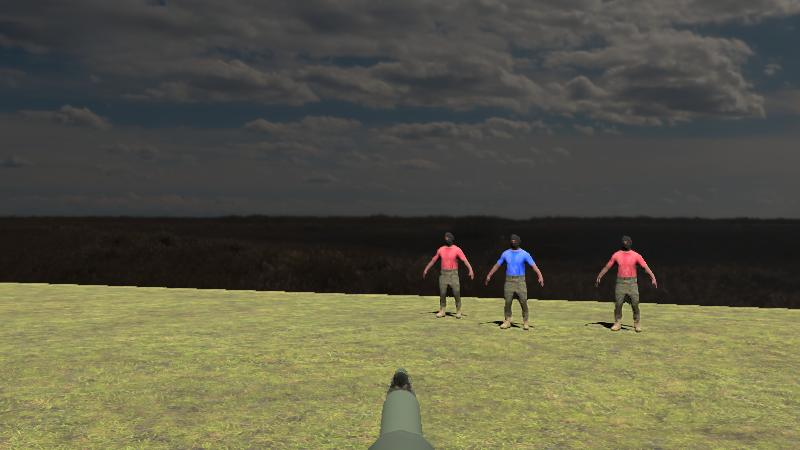Human: (596, 235, 657, 333), (485, 234, 544, 330), (423, 230, 473, 319)
